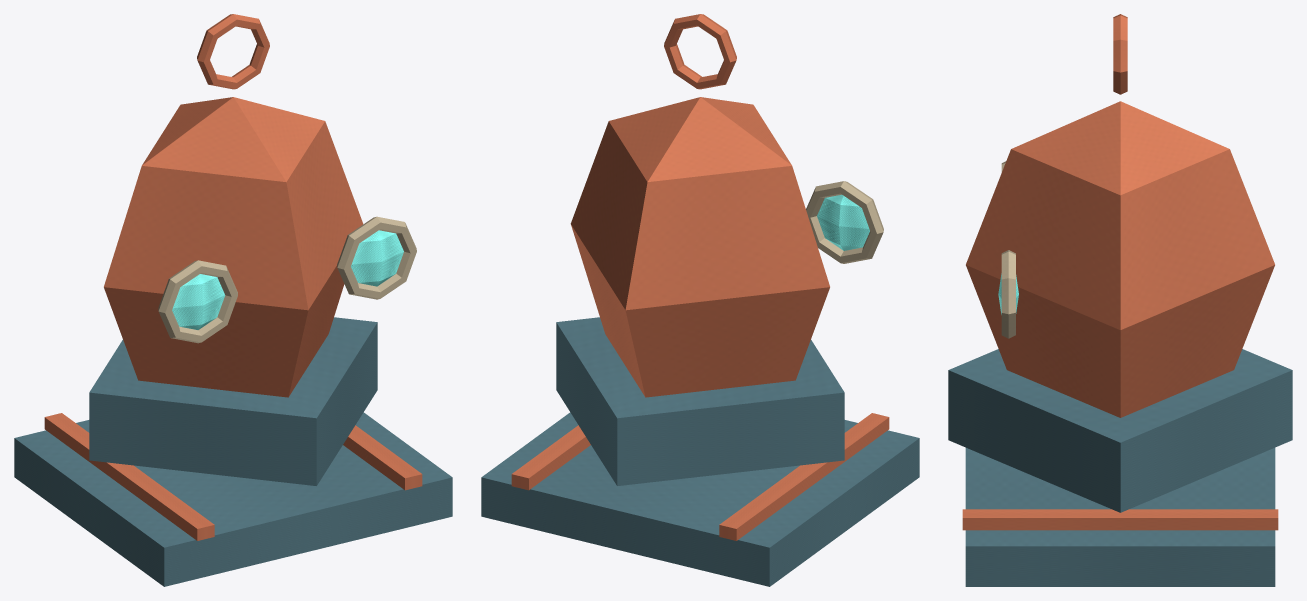
File: atlas100-s046-a01.lod2.glb
3 renders of one model, left to right at view 1: azimuth 30°, elevation 25°; view 2: azimuth 150°, elevation 25°; view 3: azimuth 270°, elevation 25°, orthographic. The views are drawn at different scales.
Parts seen in each view (by area): view 1: atlas100-s046-a01:part-003, atlas100-s046-a01:part-000, atlas100-s046-a01:part-004, atlas100-s046-a01:part-001, atlas100-s046-a01:part-007, atlas100-s046-a01:part-005, atlas100-s046-a01:part-009, atlas100-s046-a01:part-008, atlas100-s046-a01:part-006, atlas100-s046-a01:part-002; view 2: atlas100-s046-a01:part-003, atlas100-s046-a01:part-000, atlas100-s046-a01:part-004, atlas100-s046-a01:part-001, atlas100-s046-a01:part-005, atlas100-s046-a01:part-009, atlas100-s046-a01:part-006, atlas100-s046-a01:part-002; view 3: atlas100-s046-a01:part-003, atlas100-s046-a01:part-004, atlas100-s046-a01:part-000, atlas100-s046-a01:part-002, atlas100-s046-a01:part-007, atlas100-s046-a01:part-009.
Boxes of the visible parts, left/top/right/bottom form: atlas100-s046-a01:part-003: left=104, top=97, right=363, bottom=397; atlas100-s046-a01:part-000: left=14, top=412, right=452, bottom=586; atlas100-s046-a01:part-004: left=89, top=317, right=377, bottom=485; atlas100-s046-a01:part-001: left=44, top=413, right=214, bottom=540; atlas100-s046-a01:part-007: left=337, top=216, right=416, bottom=299; atlas100-s046-a01:part-005: left=158, top=260, right=237, bottom=343; atlas100-s046-a01:part-009: left=197, top=14, right=269, bottom=89; atlas100-s046-a01:part-008: left=351, top=230, right=403, bottom=286; atlas100-s046-a01:part-006: left=172, top=274, right=225, bottom=329; atlas100-s046-a01:part-002: left=343, top=425, right=422, bottom=490; atlas100-s046-a01:part-003: left=570, top=97, right=829, bottom=397; atlas100-s046-a01:part-000: left=481, top=412, right=919, bottom=586; atlas100-s046-a01:part-004: left=556, top=317, right=844, bottom=485; atlas100-s046-a01:part-001: left=719, top=413, right=889, bottom=540; atlas100-s046-a01:part-005: left=806, top=181, right=883, bottom=263; atlas100-s046-a01:part-009: left=664, top=14, right=736, bottom=89; atlas100-s046-a01:part-006: left=817, top=194, right=869, bottom=250; atlas100-s046-a01:part-002: left=511, top=425, right=590, bottom=490; atlas100-s046-a01:part-003: left=966, top=101, right=1274, bottom=417; atlas100-s046-a01:part-004: left=948, top=349, right=1292, bottom=512; atlas100-s046-a01:part-000: left=965, top=448, right=1275, bottom=586; atlas100-s046-a01:part-002: left=962, top=509, right=1278, bottom=530; atlas100-s046-a01:part-007: left=1001, top=250, right=1015, bottom=338; atlas100-s046-a01:part-009: left=1113, top=14, right=1127, bottom=94.
Bounding box in the file's own units: 2 × 3.2 × 2.
4 materials, 4 textured.
